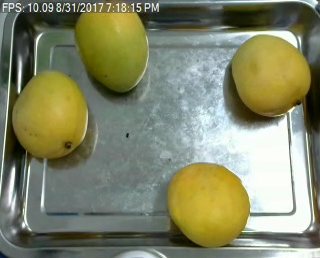Mango: (166, 161, 249, 246), (73, 3, 150, 93), (11, 69, 88, 158), (230, 33, 310, 116)
